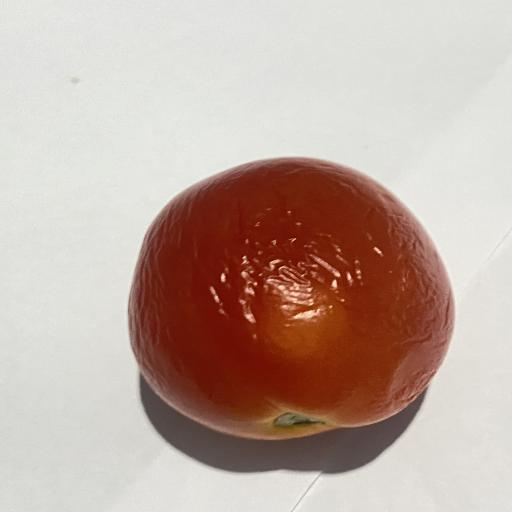spoiled: (129, 158, 453, 439)
